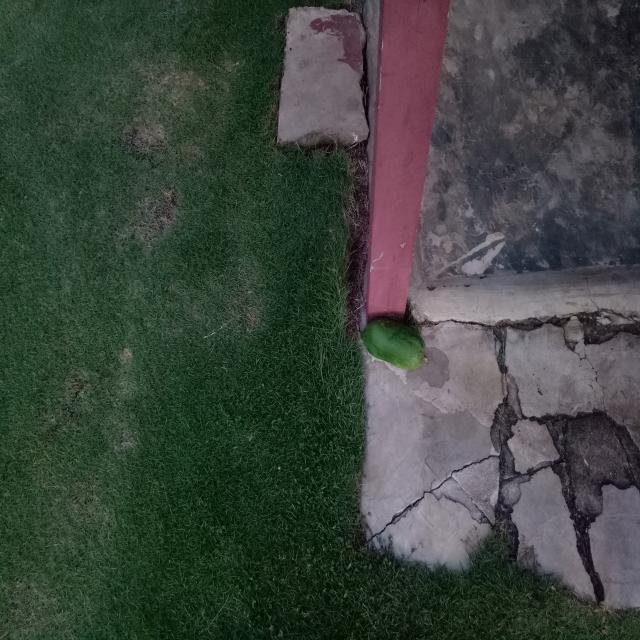Pepaya unrippen: (359, 311, 429, 378)
